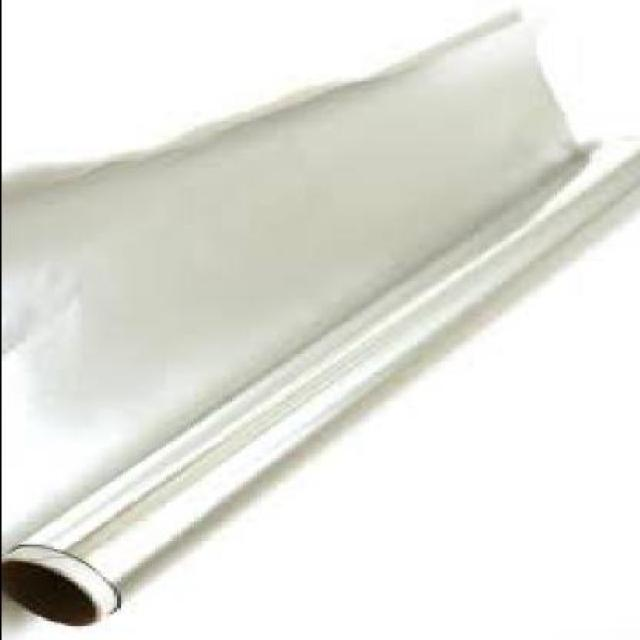METAL: (3, 8, 639, 624)
